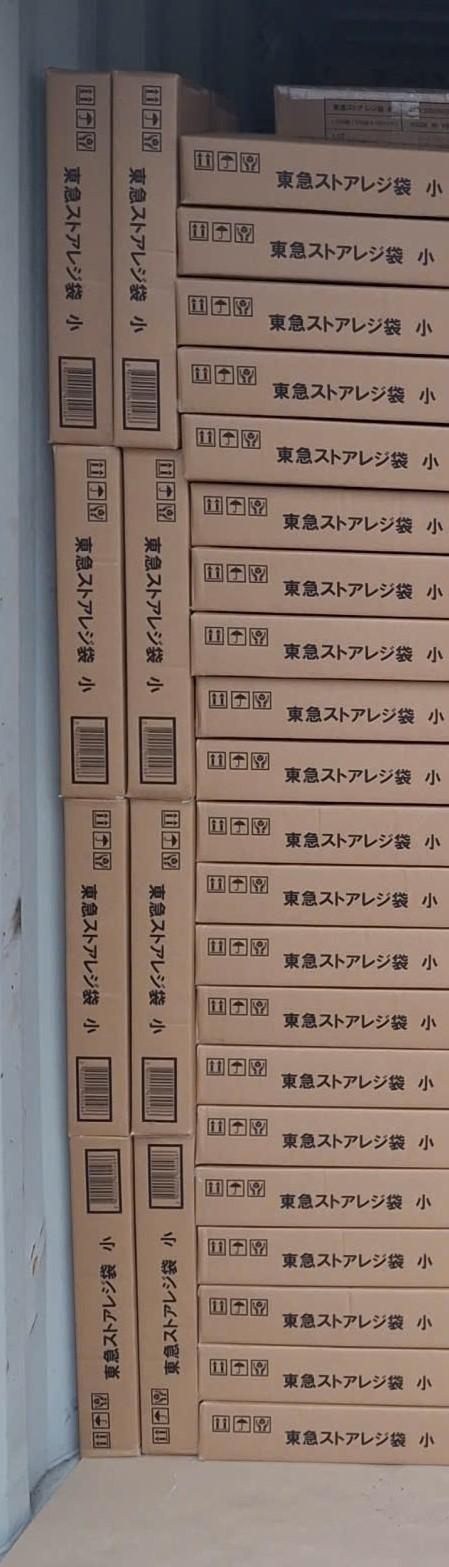carton: (41, 68, 121, 452), (52, 441, 130, 801), (110, 68, 182, 440), (176, 128, 449, 224), (123, 445, 195, 803), (179, 346, 448, 438), (177, 275, 449, 365), (178, 205, 449, 295), (59, 790, 131, 1122), (129, 1132, 203, 1453), (69, 1129, 142, 1454), (182, 411, 448, 499), (132, 798, 202, 1130), (185, 481, 447, 566), (191, 546, 448, 628), (192, 612, 447, 690), (194, 670, 449, 746), (200, 1342, 449, 1417), (197, 1398, 448, 1472), (196, 1044, 449, 1117), (194, 926, 448, 998), (193, 739, 447, 810), (196, 987, 448, 1058), (193, 864, 448, 934), (199, 1285, 447, 1356), (192, 803, 449, 871), (194, 1165, 447, 1234), (197, 1104, 448, 1173), (196, 1226, 448, 1293)
